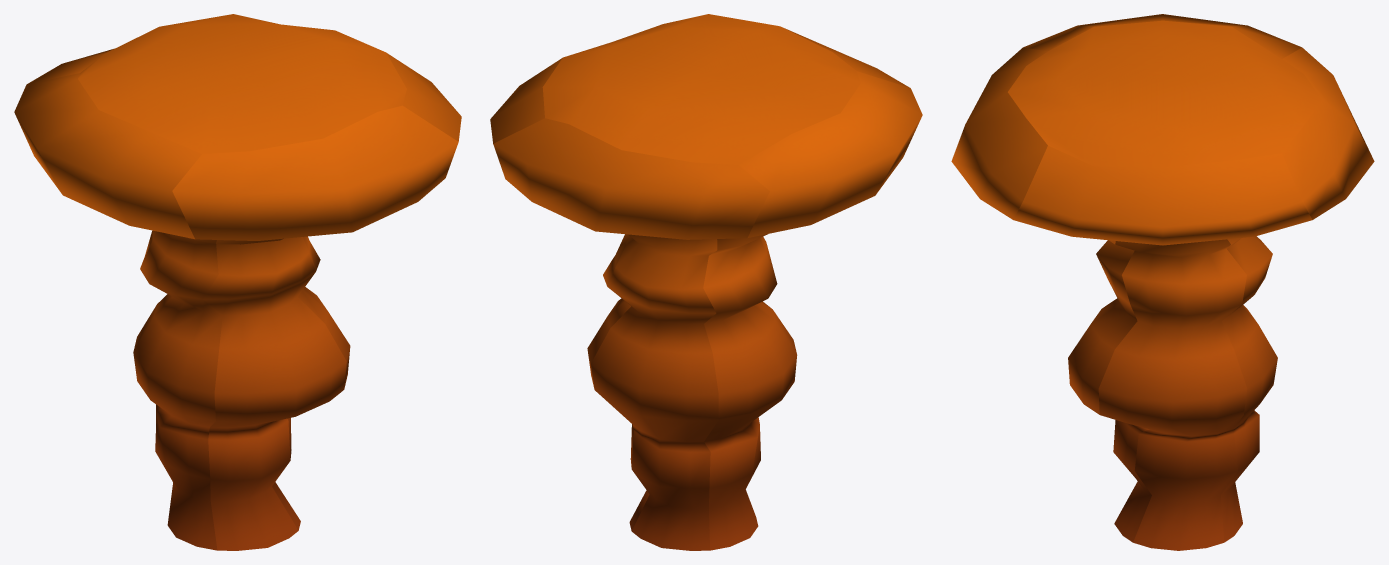
The model's file is hoodoo01.fbx.
3 views of the same model, side by side, from view 1: azimuth 30°, elevation 25°; view 2: azimuth 150°, elevation 25°; view 3: azimuth 270°, elevation 25° (orthographic). The views are drawn at different scales.
Visible parts, largest first — view 1: hoodoo1_0002:pCube1; view 2: hoodoo1_0002:pCube1; view 3: hoodoo1_0002:pCube1.
Boxes of the visible parts, box(x1,y1,x2,y2) form: hoodoo1_0002:pCube1: box(14, 14, 461, 550); hoodoo1_0002:pCube1: box(490, 14, 922, 550); hoodoo1_0002:pCube1: box(951, 14, 1374, 550).
Size of the model in its own units: 8.5 by 9.55 by 8.23.
Materials: 1 (1 with a texture image).
